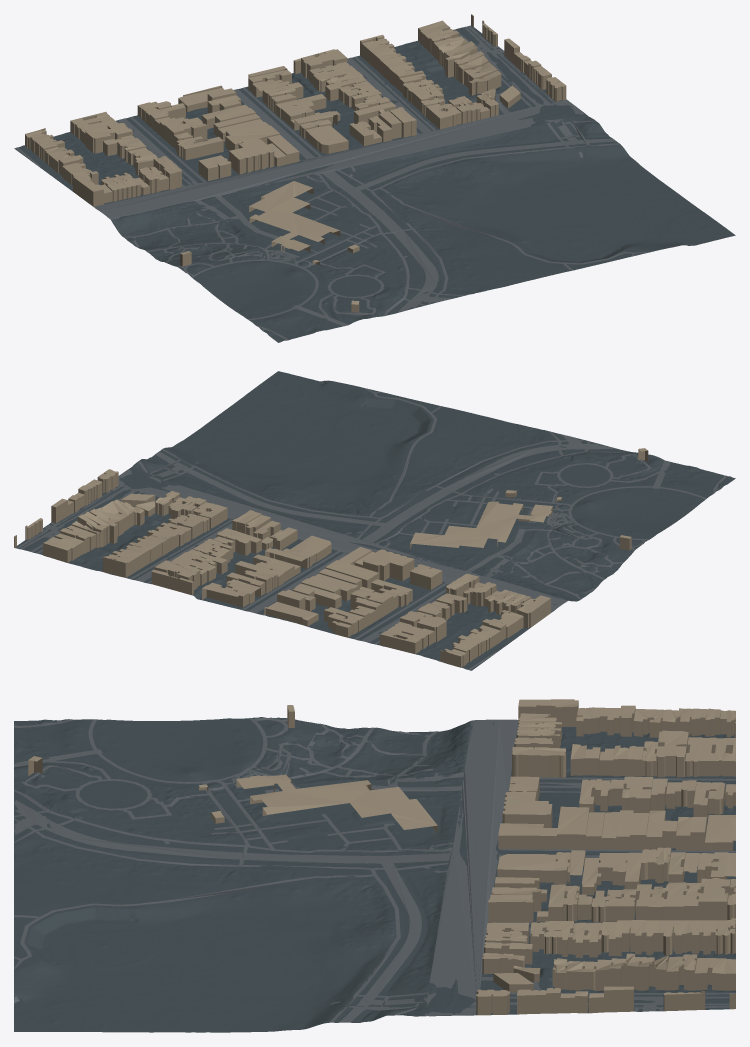
File: epsg26910-1424-10885.lod0.glb
The picture shows the model from 3 angles, top to bottom: view 1: azimuth 30°, elevation 25°; view 2: azimuth 150°, elevation 25°; view 3: azimuth 270°, elevation 25°; orthographic projection. The views are drawn at different scales.
Parts seen in each view (by area): view 1: epsg26910-1424-10885-lod0; view 2: epsg26910-1424-10885-lod0; view 3: epsg26910-1424-10885-lod0.
Boxes of the visible parts, x1,y1,x2,y2 form: epsg26910-1424-10885-lod0: (14,14,735,342); epsg26910-1424-10885-lod0: (14,371,735,670); epsg26910-1424-10885-lod0: (14,699,735,1032).
Size of the model in its own units: 384 by 29.03 by 384.
